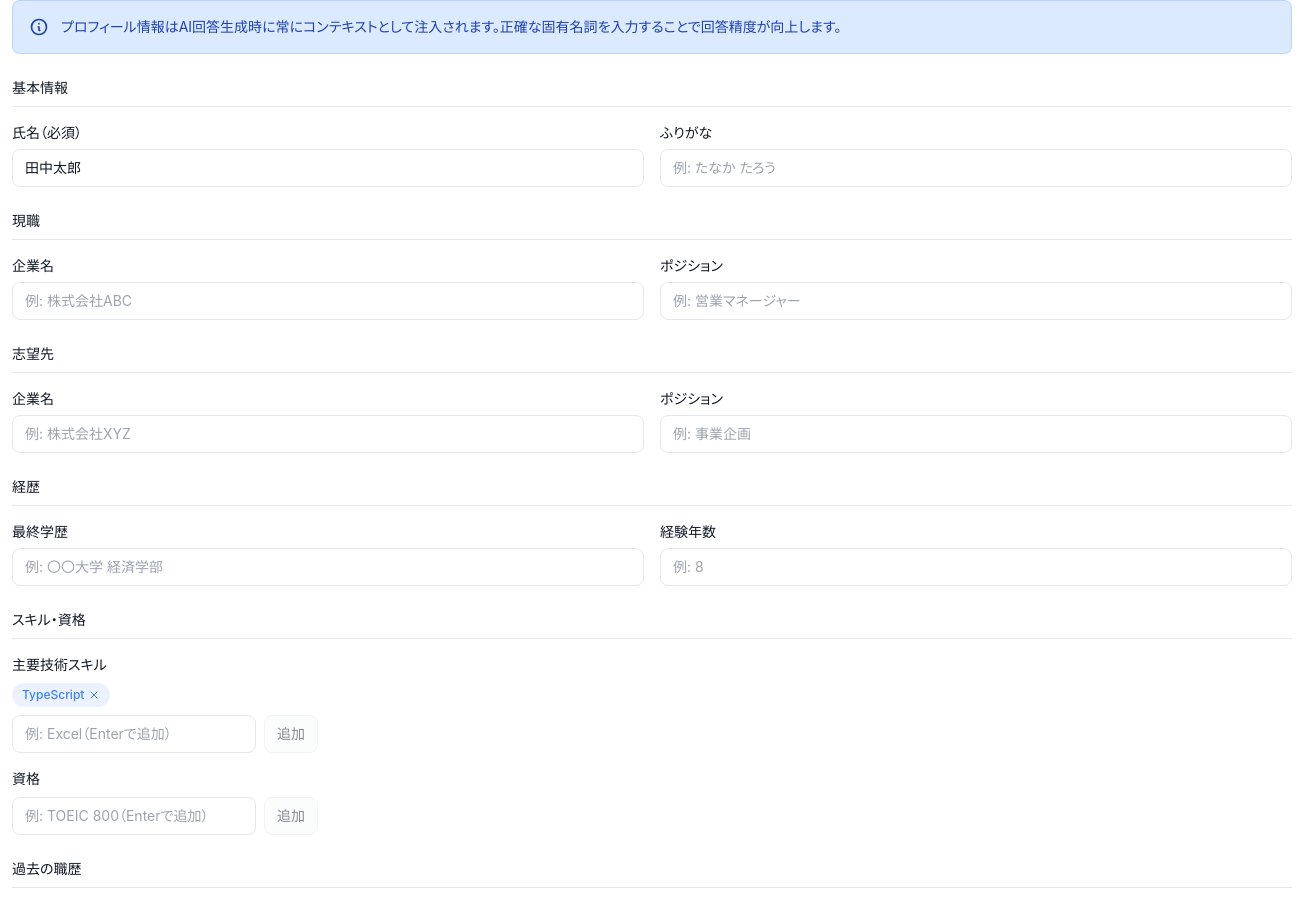
Test case: ProfileTab › should remove a tag when remove button is clicked
Click the button named "TypeScriptを削除": (94, 695) [88,689,100,701]
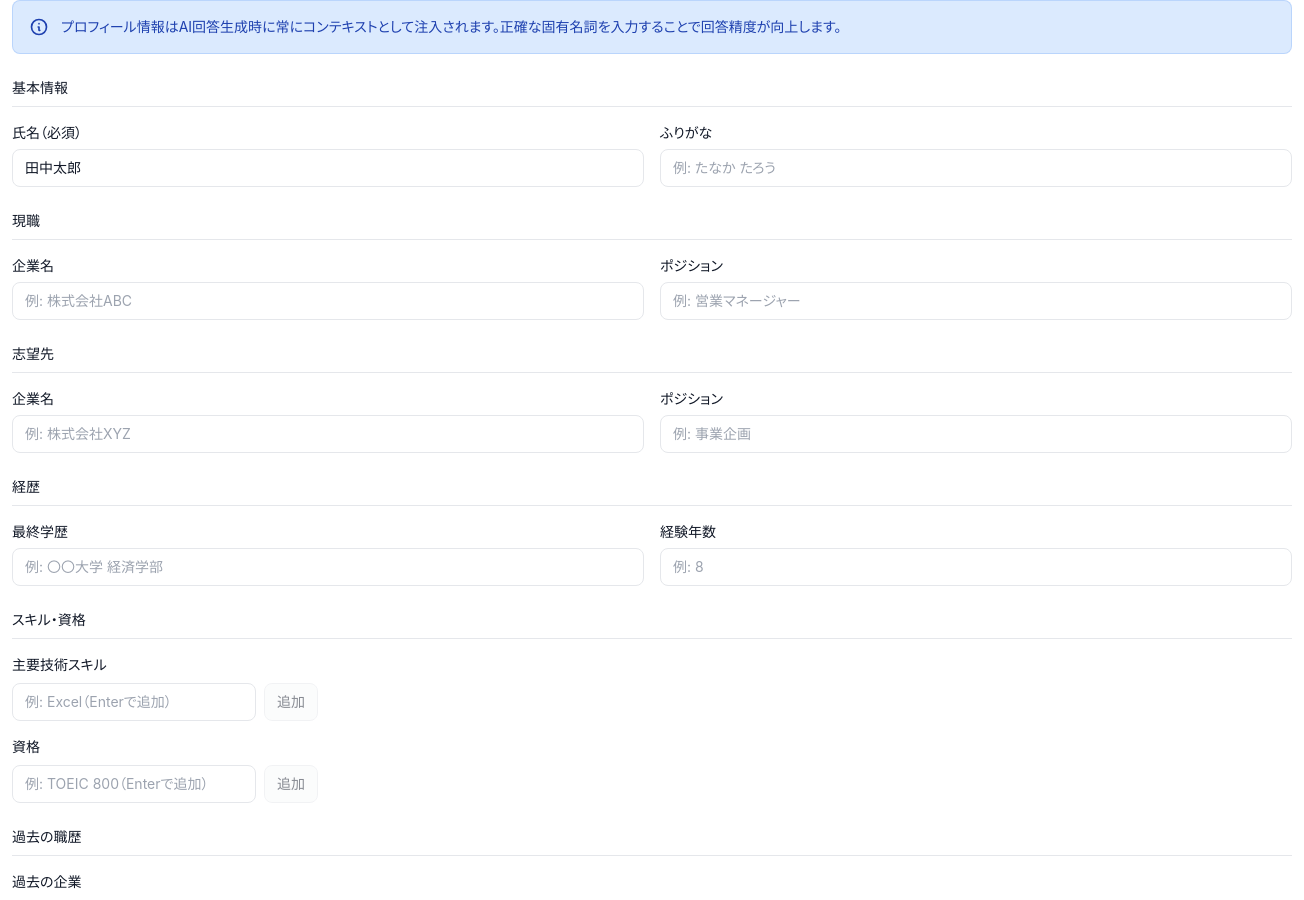
Expected: the text "TypeScript" is gone
